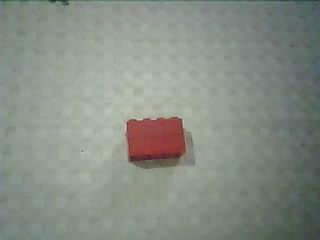lego: (126, 116, 187, 161)
